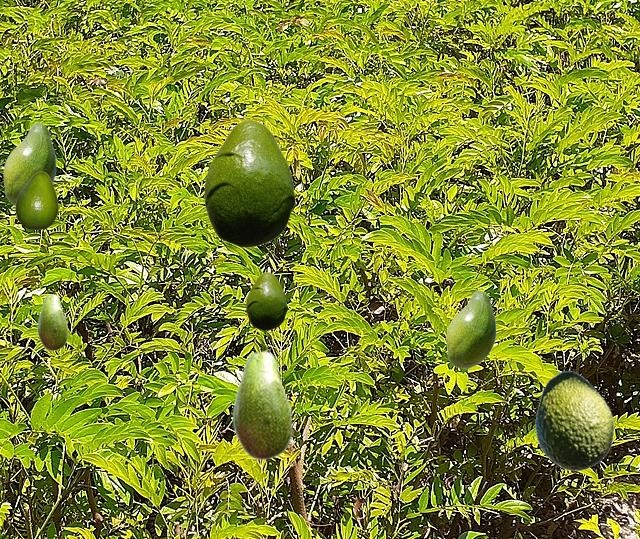avocado: (204, 119, 294, 246), (534, 370, 613, 470), (232, 349, 292, 460), (3, 122, 55, 205), (446, 290, 495, 368), (15, 171, 57, 228), (246, 272, 286, 329), (37, 293, 67, 350)
